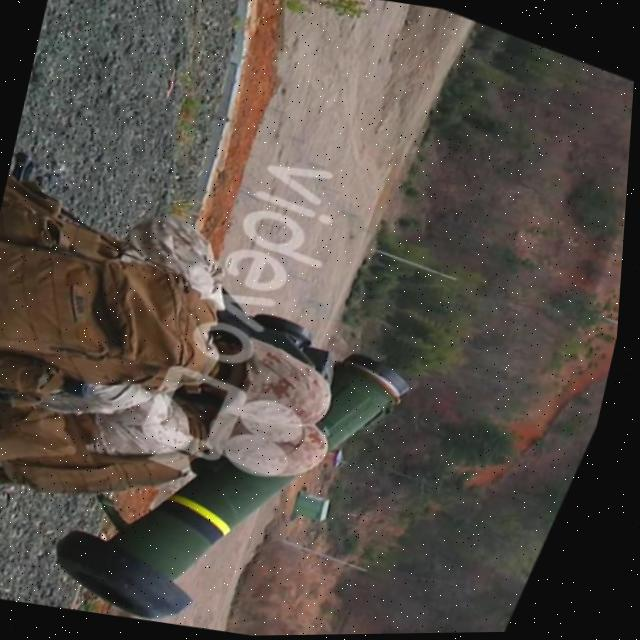rocket: (43, 276, 433, 639)
